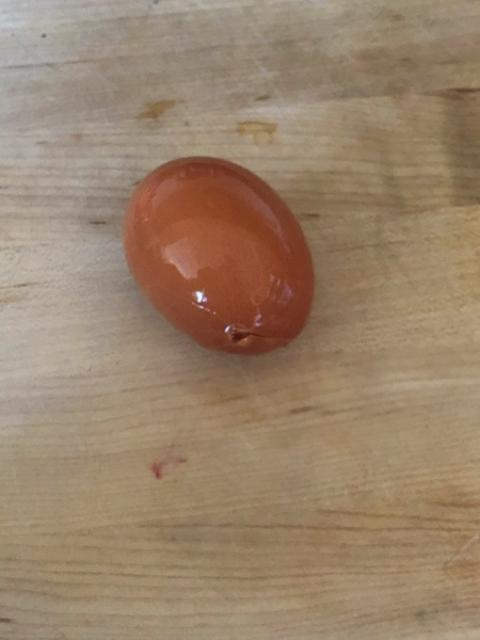Roto: (122, 154, 316, 355)
